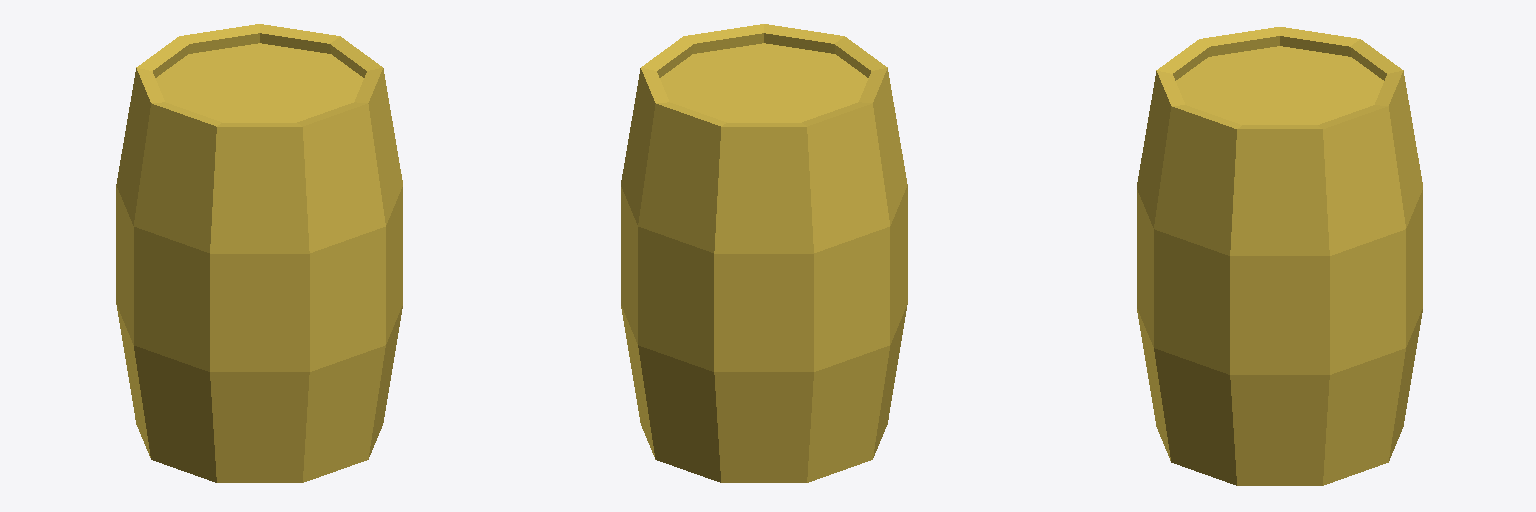
The model's file is barrel1.obj.
3 views of the same model, side by side, from view 1: azimuth 30°, elevation 25°; view 2: azimuth 150°, elevation 25°; view 3: azimuth 270°, elevation 25° (orthographic).
Visible parts, largest first — view 1: barrel1; view 2: barrel1; view 3: barrel1.
Part boxes in pixels (left/top/right/bottom): barrel1: left=116, top=24, right=402, bottom=482; barrel1: left=621, top=24, right=907, bottom=482; barrel1: left=1137, top=27, right=1422, bottom=485.
Size of the model in its own units: 0.7573 by 1.05 by 0.7689.